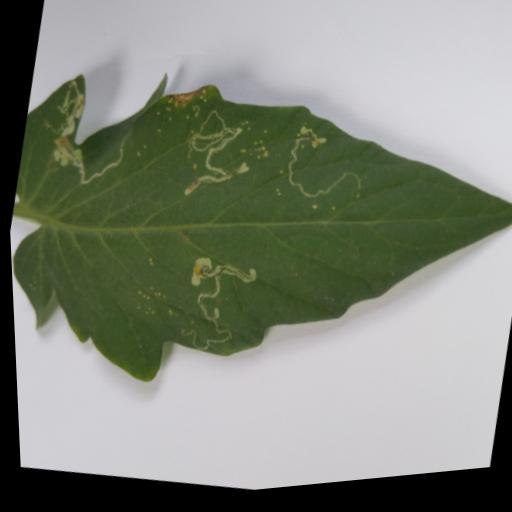Leaf_Miner: (2, 28, 512, 459)
